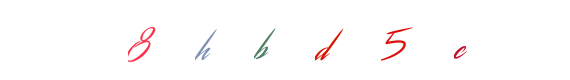5: (245, 0, 325, 80)
8: (179, 0, 259, 80)
B: (223, 0, 303, 80)
C: (338, 0, 418, 80)
D: (231, 0, 311, 80)
H: (212, 0, 292, 80)
